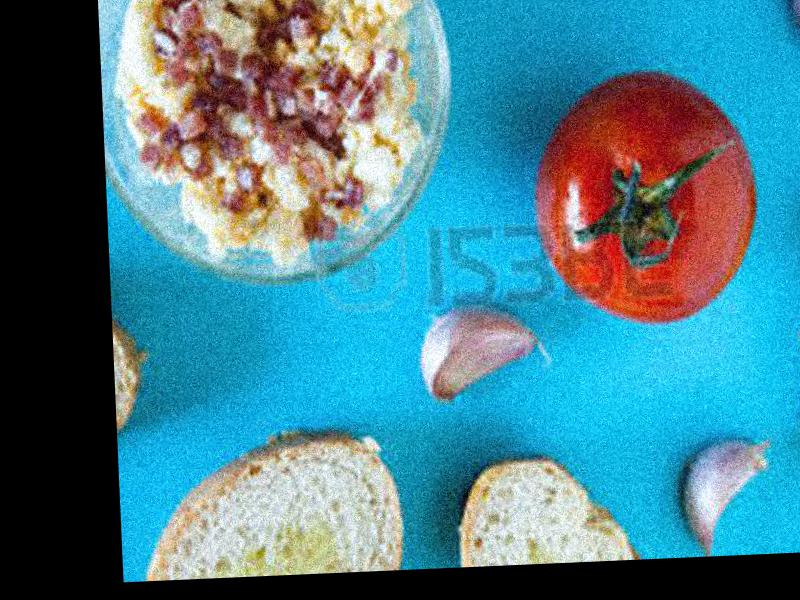Tomato: (538, 68, 761, 330)
